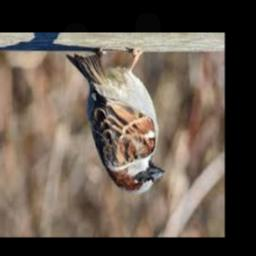Sparrow: (66, 48, 166, 194)
